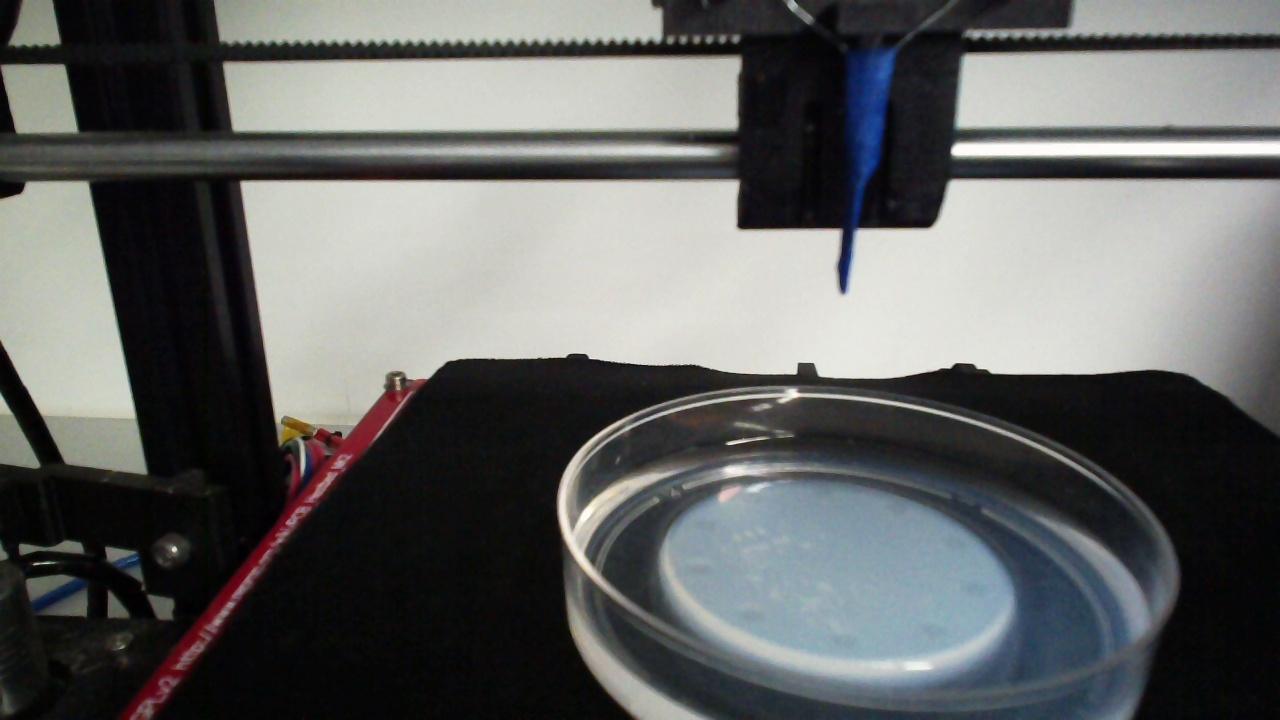groove: (919, 619, 950, 644), (961, 578, 992, 602), (828, 630, 859, 652), (882, 497, 911, 519), (942, 531, 971, 552), (682, 560, 713, 579), (691, 515, 719, 536), (808, 480, 835, 500), (737, 607, 765, 625)
needle: (838, 53, 894, 292)
